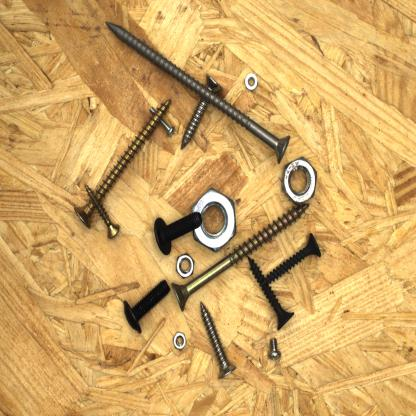screw: (102, 17, 294, 167), (169, 198, 313, 314), (72, 96, 174, 232), (245, 252, 297, 334), (178, 68, 226, 154), (261, 232, 324, 289), (198, 301, 242, 382), (119, 278, 174, 336), (152, 208, 205, 259), (82, 181, 123, 241), (148, 104, 178, 139), (264, 335, 284, 362)
